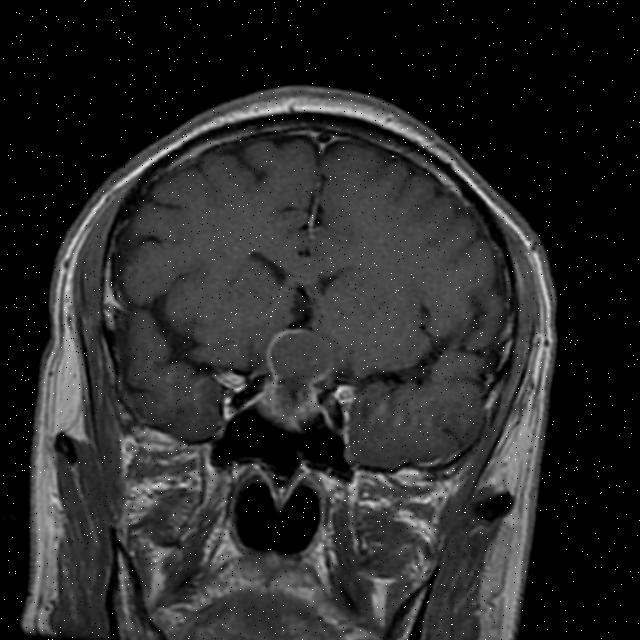Pituitary: (257, 326, 337, 437)
